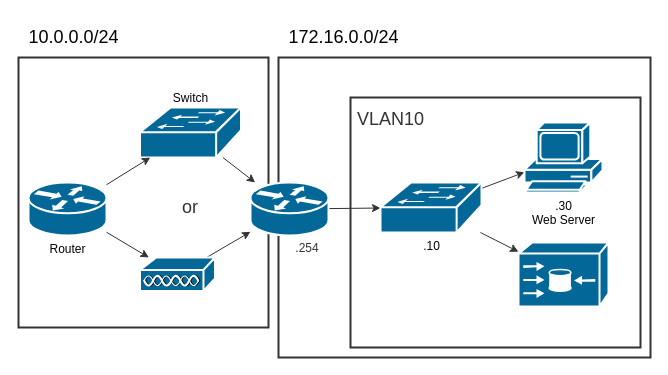
This 668x375 diagram has some shape labels left out. The centre of each missing label's shape, as x and y in pixels:
".20 Cache Server" belongs at point 563,274.
"Access Point" belongs at point 177,274.
